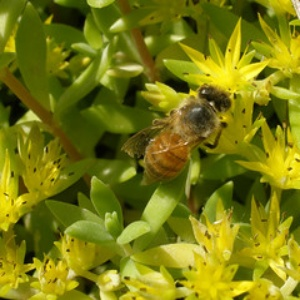bee: (119, 83, 232, 188)
